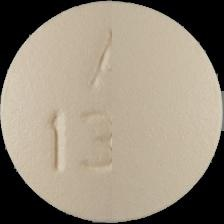60760-488: (0, 0, 224, 224)
